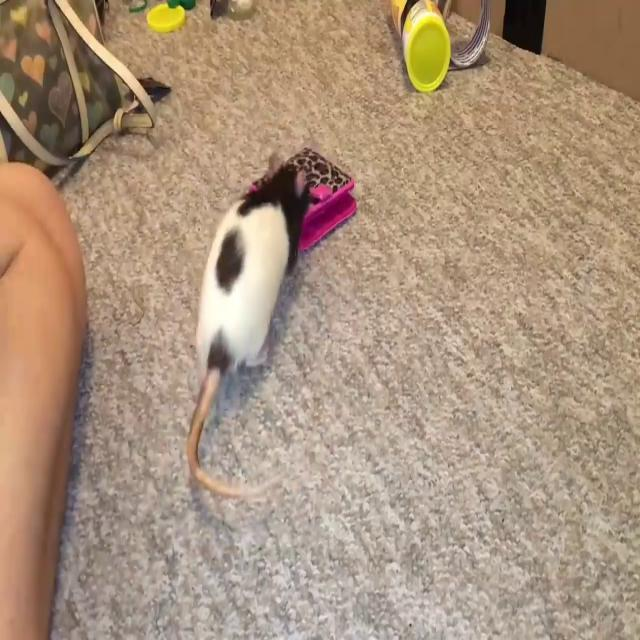rat: (184, 150, 310, 505)
